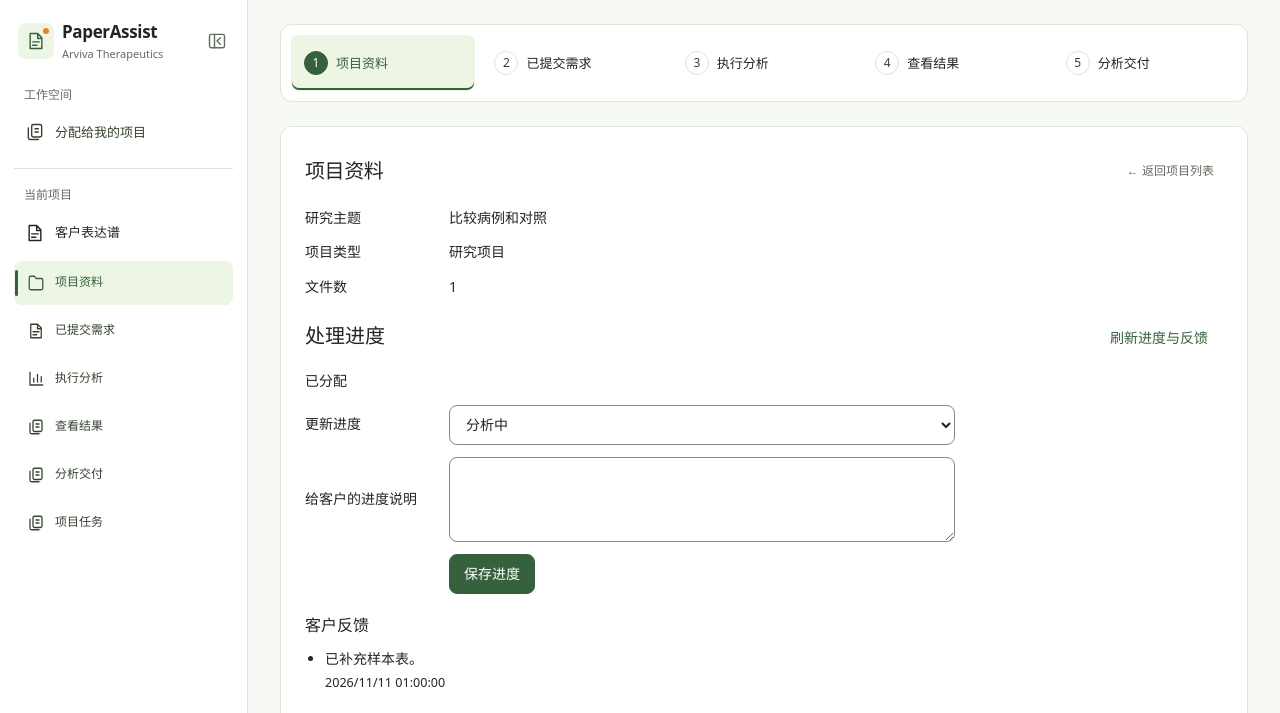
Test: keeps analyzing progress and materials drafts separate across navigation and reload
The width and height of the screenshot is (1280, 713).
Later steps or results of the test are not shown.
Select "分析中" in the dropdown labelled "更新进度" at (702, 425), box left=449, top=405, right=955, bottom=445
Type "未提交的普通进度。" into the text box labelled "给客户的进度说明" at (702, 499), box left=449, top=457, right=955, bottom=542
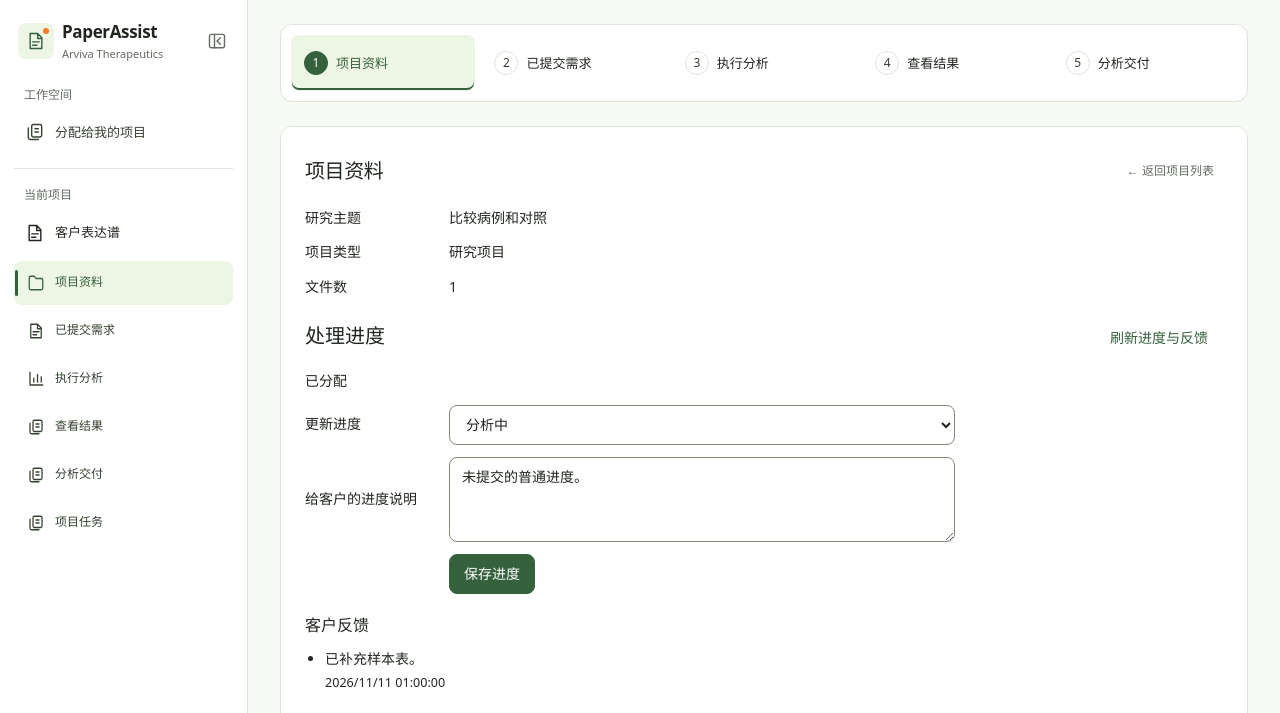
Click the button with aria-label "第 3 步：执行分析" at (764, 63), box left=672, top=35, right=856, bottom=91
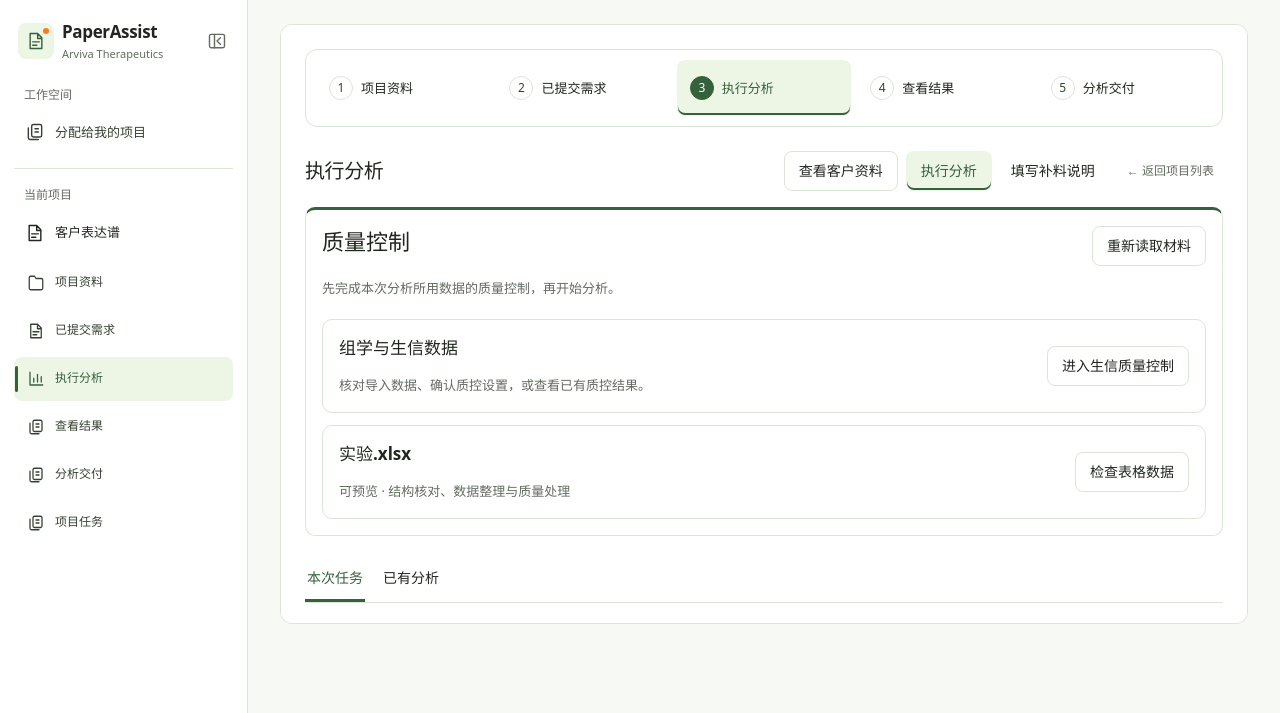
Click the button "填写补料说明" at (1053, 171), box left=996, top=151, right=1110, bottom=191
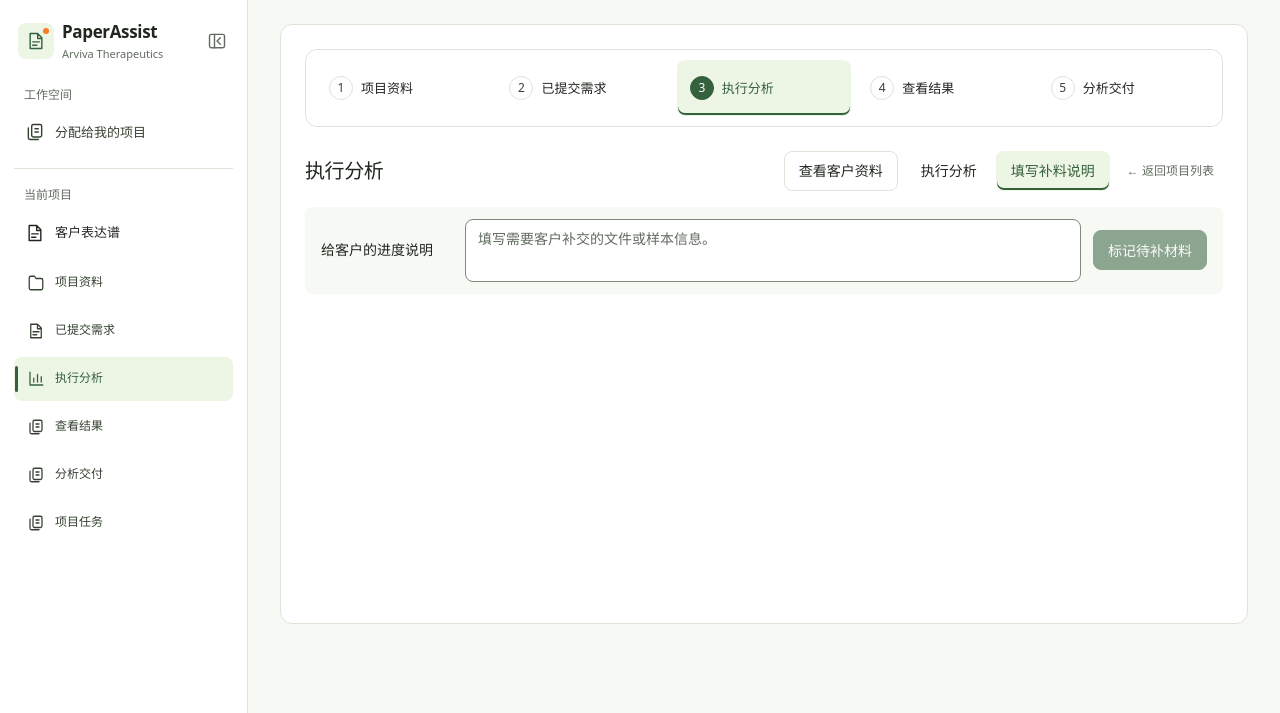
Now the text box labelled "给客户的进度说明" is empty
Type "未提交的补料清单。" into the text box labelled "给客户的进度说明" at (773, 250), box left=465, top=219, right=1081, bottom=282
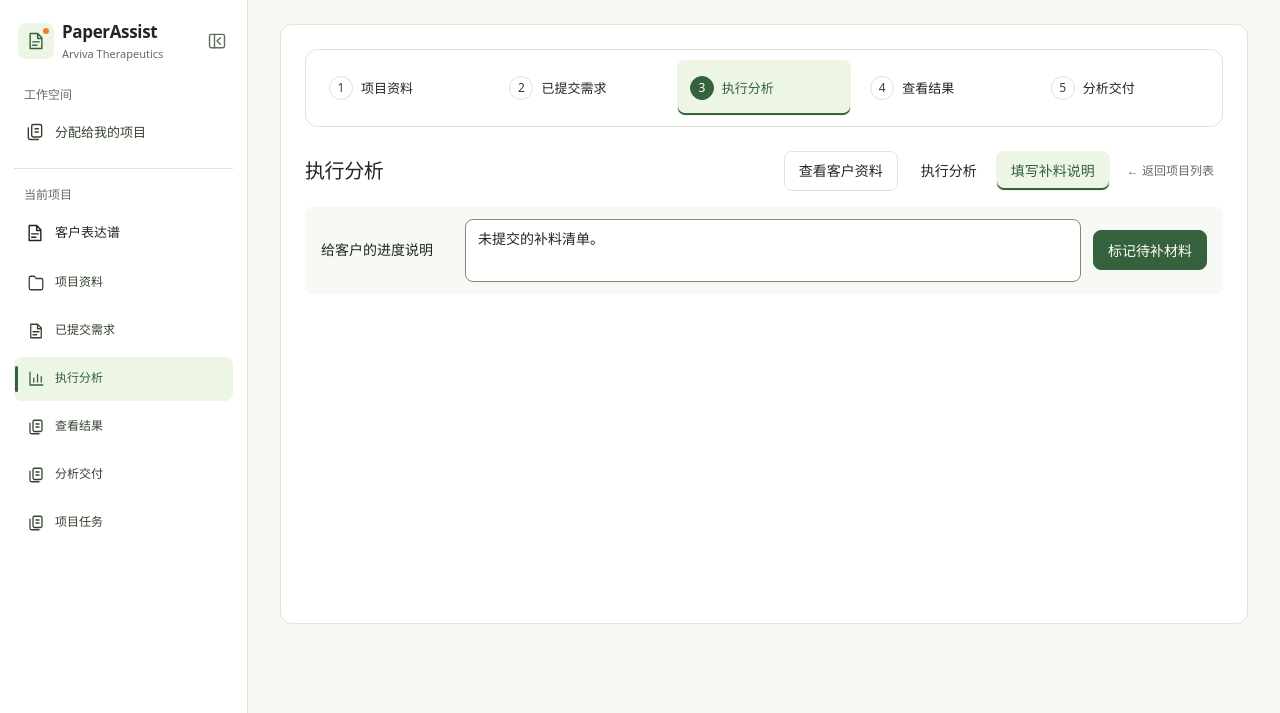
Click the button "填写补料说明" at (1053, 171), box left=996, top=151, right=1110, bottom=191
Click the button "填写补料说明" at (1053, 171), box left=996, top=151, right=1110, bottom=191
Click the button with aria-label "第 1 步：项目资料" at (403, 88), box left=316, top=60, right=490, bottom=116
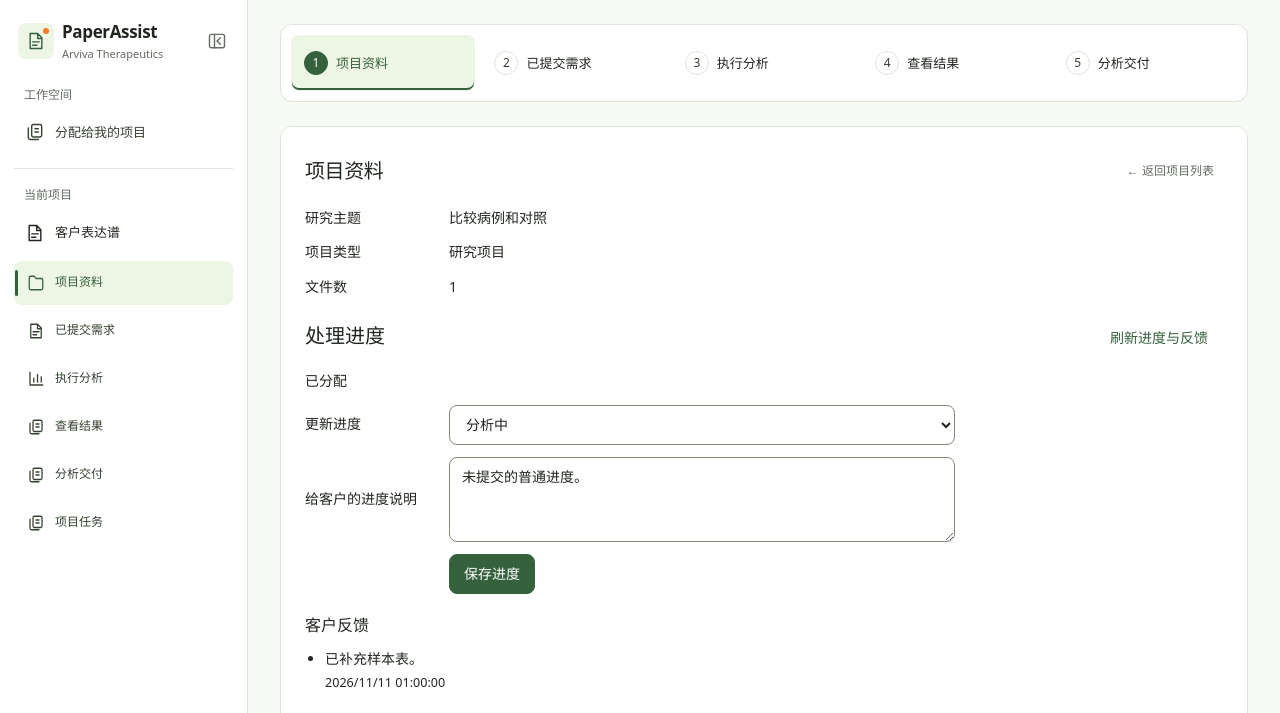
Now the text box labelled "给客户的进度说明" holds "未提交的普通进度。", box left=449, top=457, right=955, bottom=542
Now the dropdown labelled "更新进度" shows "分析中", box left=449, top=405, right=955, bottom=445
